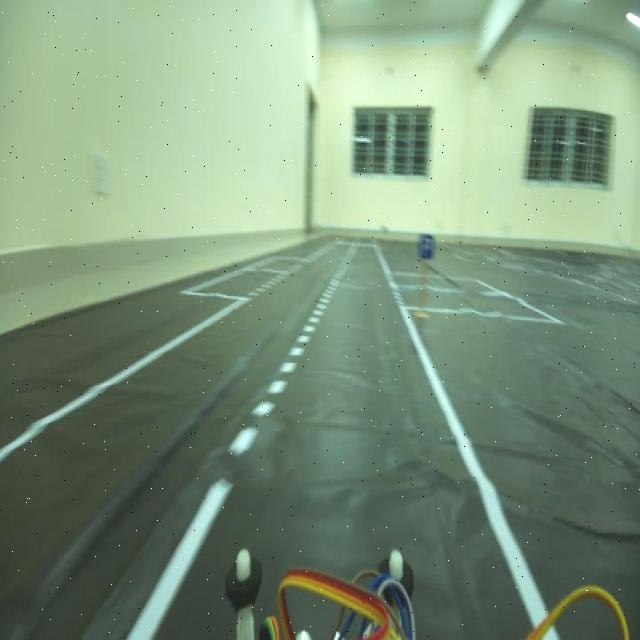parking: (414, 230, 436, 268)
